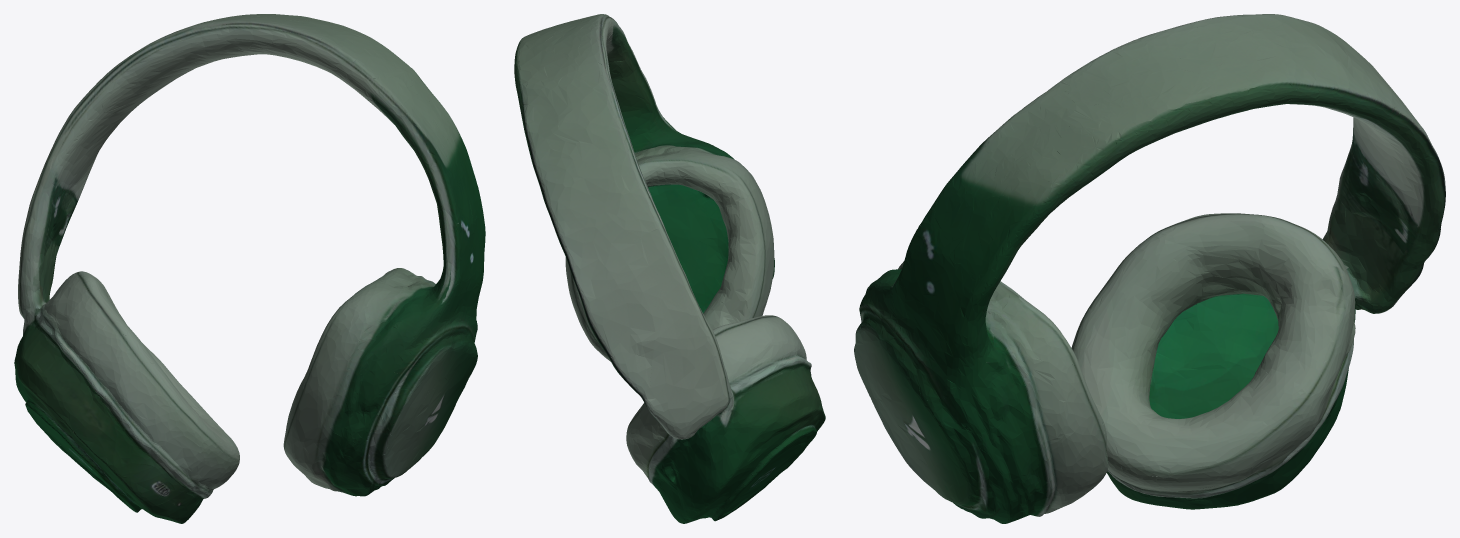
The picture shows the model from 3 angles, left to right: view 1: azimuth 30°, elevation 25°; view 2: azimuth 150°, elevation 25°; view 3: azimuth 270°, elevation 25°; orthographic projection. The views are drawn at different scales.
Parts seen in each view (by area): view 1: world; view 2: world; view 3: world.
Part boxes in pixels (left/top/right/bottom): world: left=14, top=14, right=485, bottom=523; world: left=514, top=14, right=825, bottom=523; world: left=854, top=14, right=1445, bottom=523.
Bounding box in the file's own units: 1.62 × 1.99 × 1.95.
Materials: 1 (1 with a texture image).
